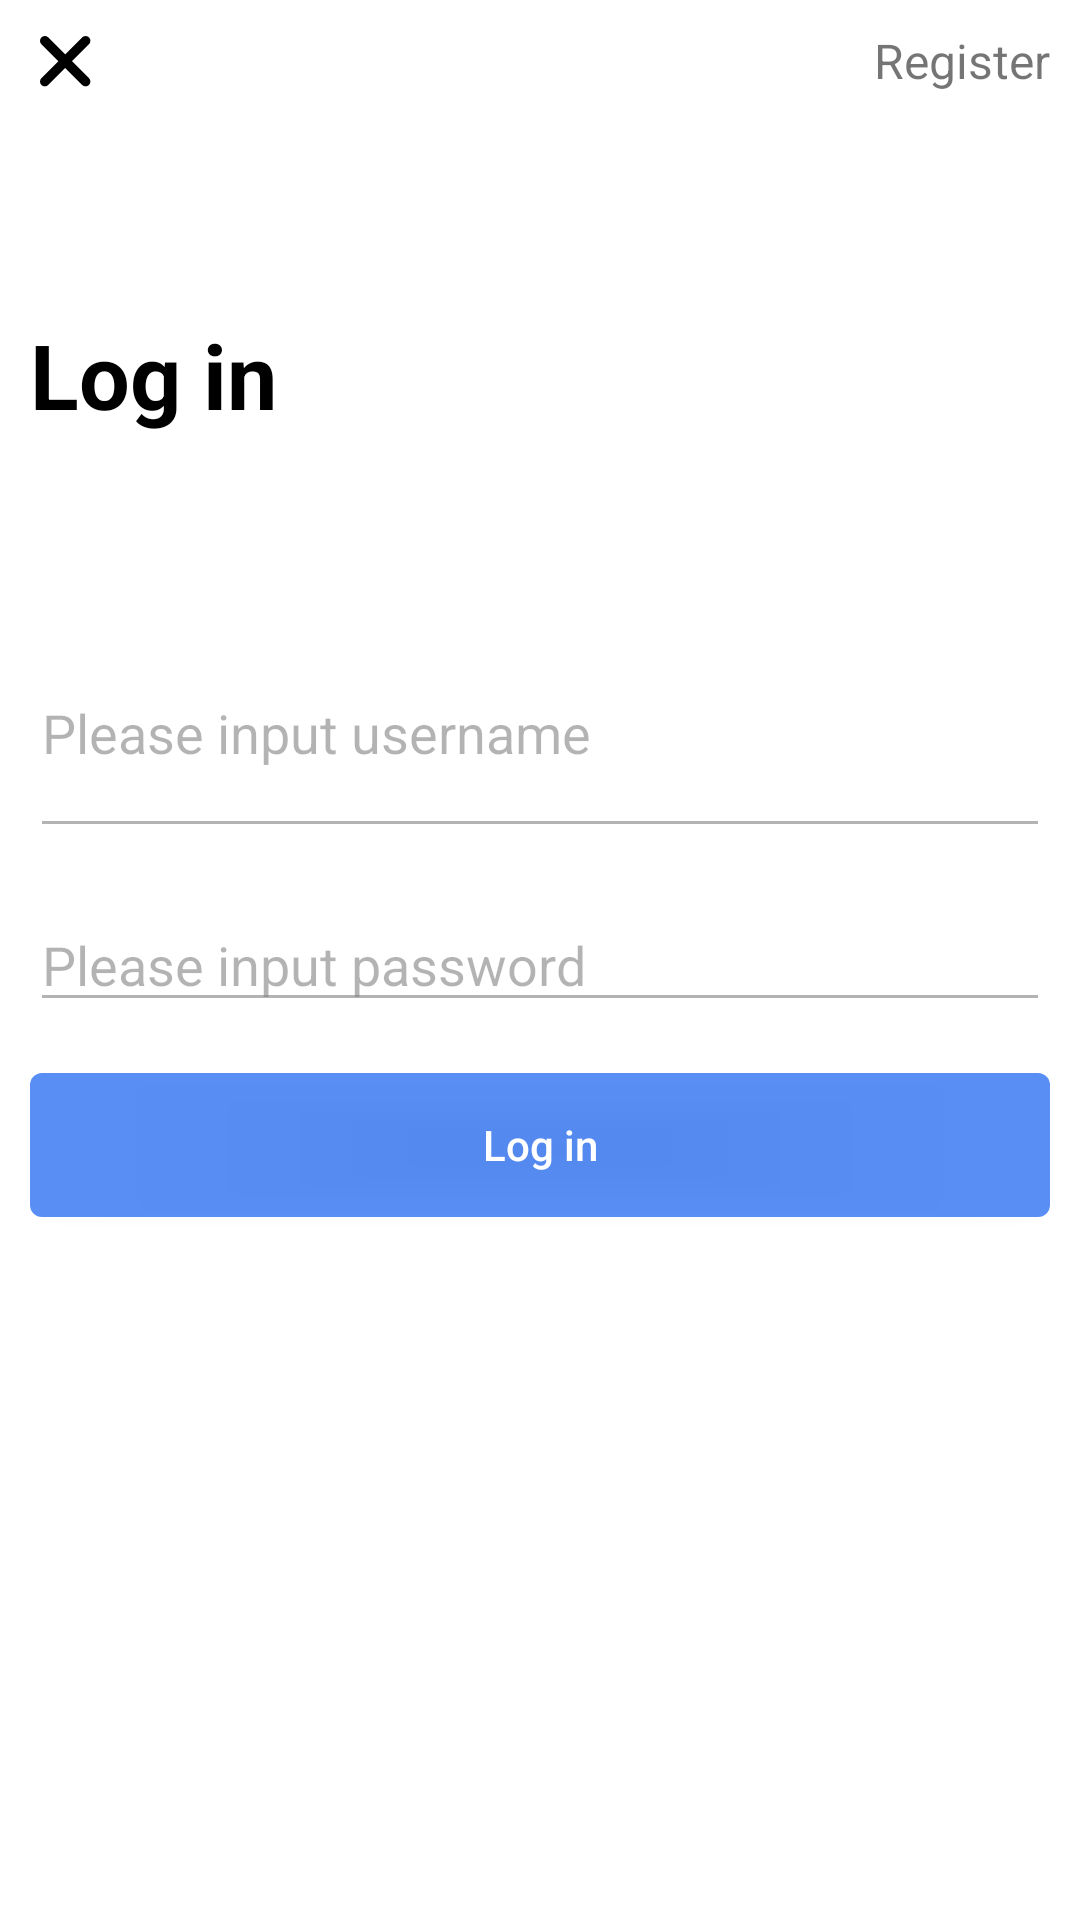

Icon bounding boxes for this 1080×1920 phone screenshot, format (x1, y1, x2, y2):
wrong: (40, 36, 91, 87)
